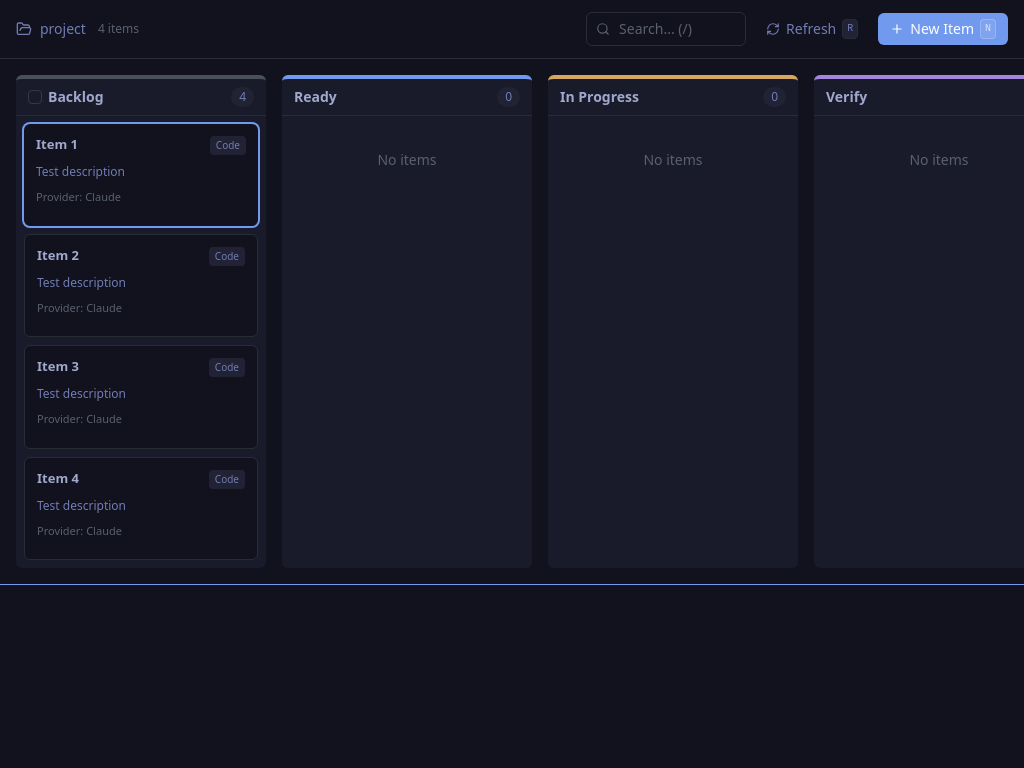
Scenario: Kanban visual selection › should not interfere with Ctrl+Click multi-select
The image size is (1024, 768).
Note: Ctrl+Click on first card
Click the button with test id "kanban-card": (141,175) [24,124,258,226]
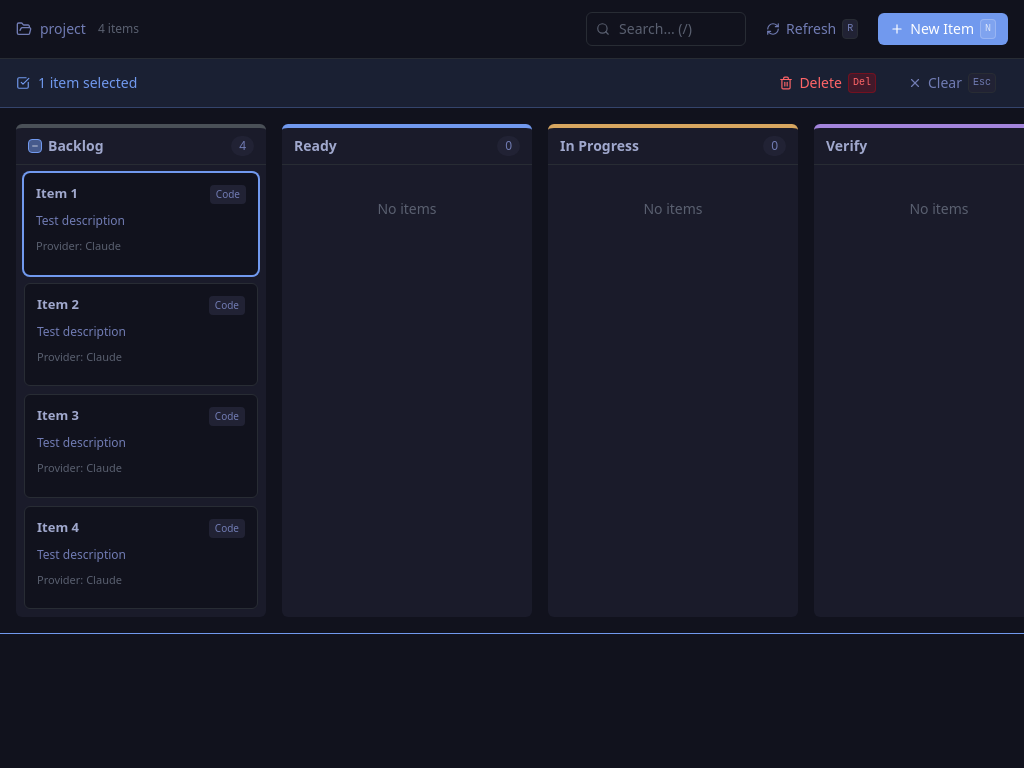
expect the element with test id "bulk-action-bar" is shown: met, box [0,59,1023,108]
expect the text with test id "selection-count" reads "1 item selected": met, box [38,73,137,93]
Note: Ctrl+Click on second card
Click the button with test id "kanban-card": (141,335) [24,283,258,386]
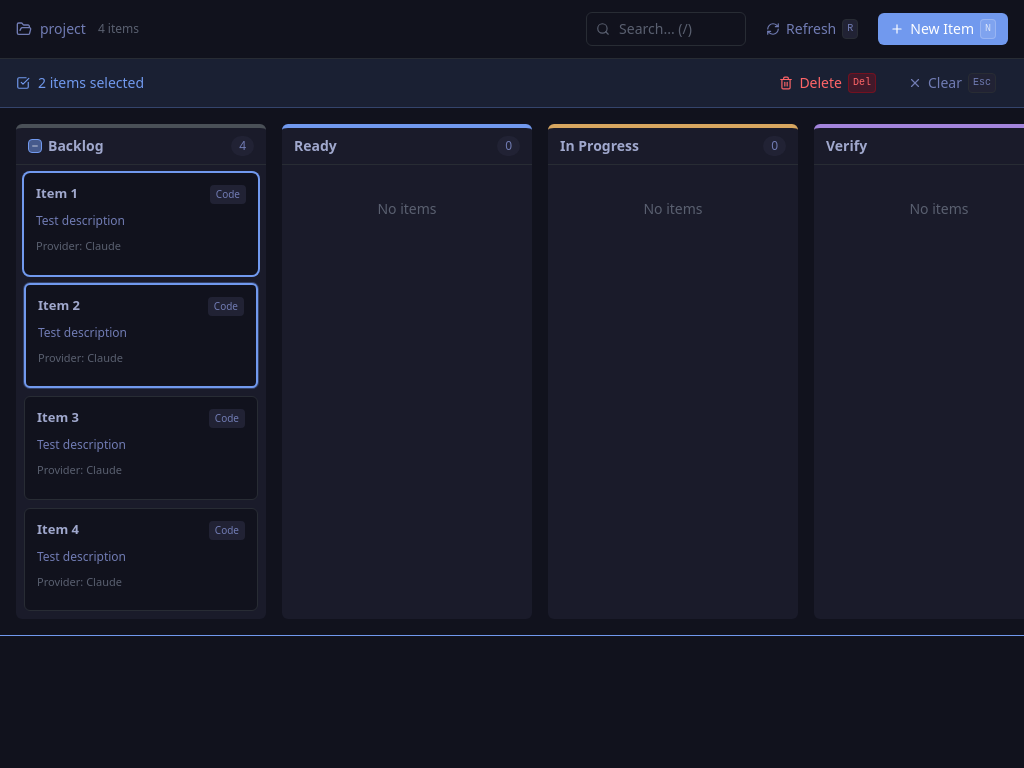
expect the text with test id "selection-count" reads "2 items selected": met, box [38,73,144,93]
